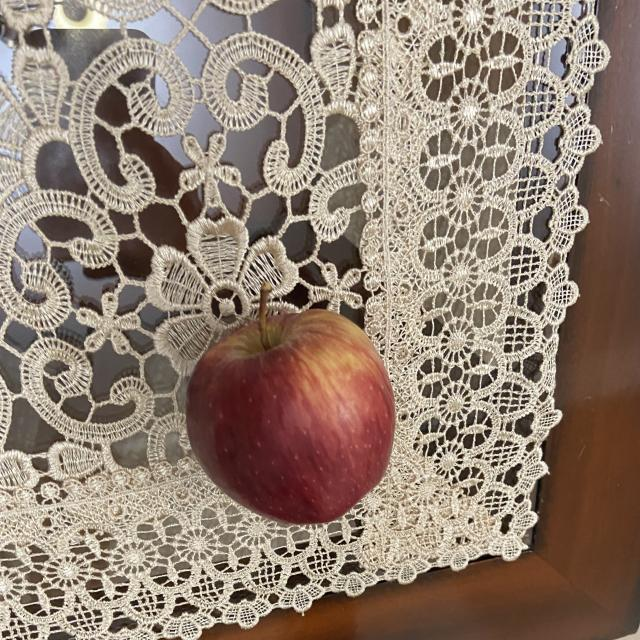apple: (184, 282, 402, 528)
